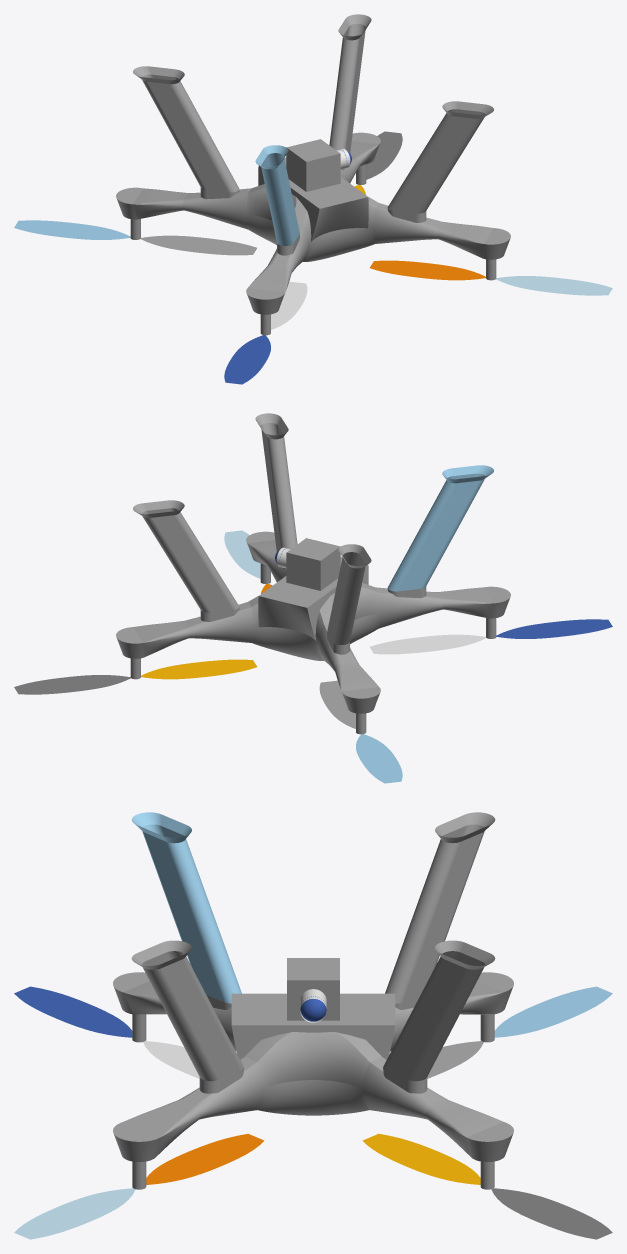
File: quadcopter.dae
3 views of the same model, one above another, from view 1: azimuth 30°, elevation 25°; view 2: azimuth 150°, elevation 25°; view 3: azimuth 270°, elevation 25° (orthographic). The views are drawn at different scales.
Visible parts, largest first — view 1: Part1 (×9); view 2: Part1 (×9); view 3: Part1 (×10).
Part boxes in pixels (bbox=[...]): Part1 (×9): bbox=[14, 14, 612, 384]; Part1 (×9): bbox=[14, 413, 612, 783]; Part1 (×10): bbox=[14, 812, 612, 1239].
Bounding box in the file's own units: 0.3394 × 0.3394 × 0.14.
